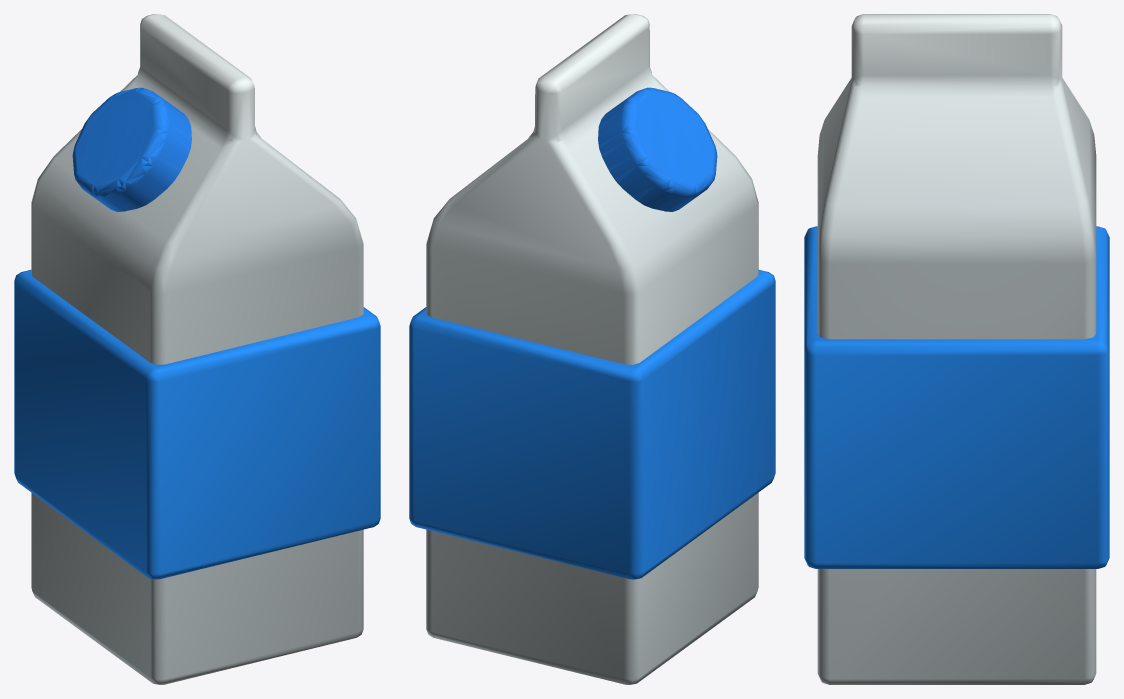
File: Milk.fbx
3 renders of one model, left to right at view 1: azimuth 30°, elevation 25°; view 2: azimuth 150°, elevation 25°; view 3: azimuth 270°, elevation 25°, orthographic. The views are drawn at different scales.
Visible parts, largest first — view 1: Cube.009; view 2: Cube.009; view 3: Cube.009.
Part boxes in pixels (<box>): Cube.009: <box>14,14,380,684</box>; Cube.009: <box>409,14,775,684</box>; Cube.009: <box>804,14,1109,684</box>.
Bounding box in the file's own units: 1.75 × 4.09 × 1.83.
